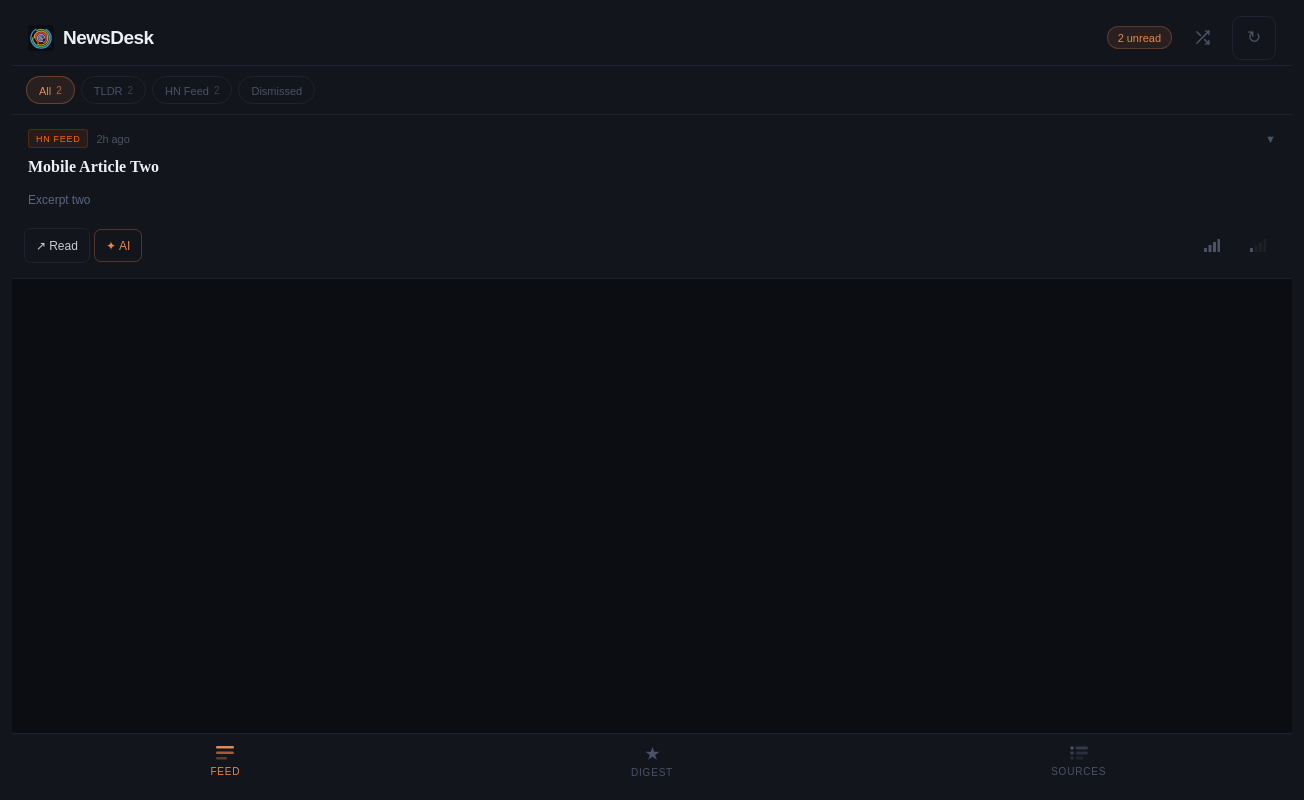
MobileApp — expanded state and excerpt/summary coverage › filters dismissed article from digest visible list
What coordinates should you click on to do the following:
click the button "Digest"
I would click on:
 (652, 762)
Its box is left=439, top=734, right=865, bottom=790.
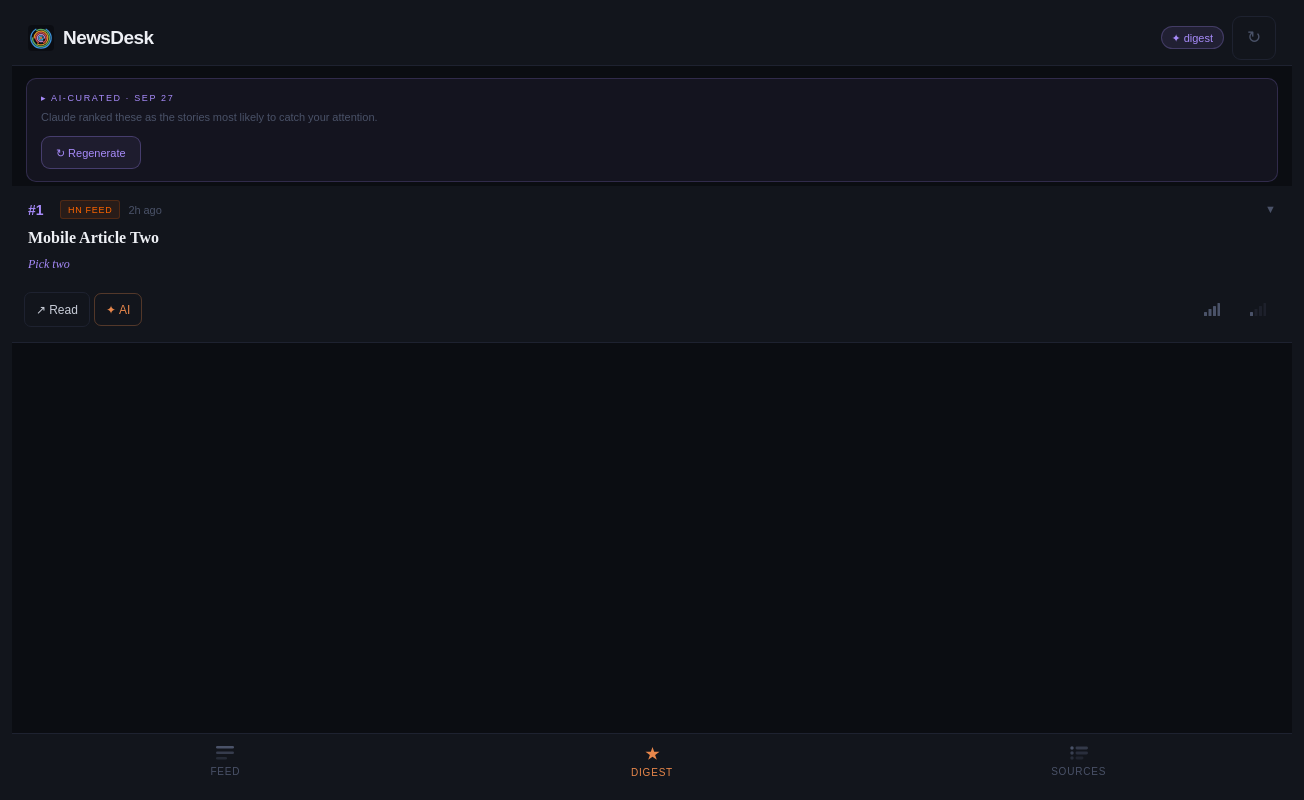
Result: the text "Pick two" is shown at left=28, top=257, right=70, bottom=271
